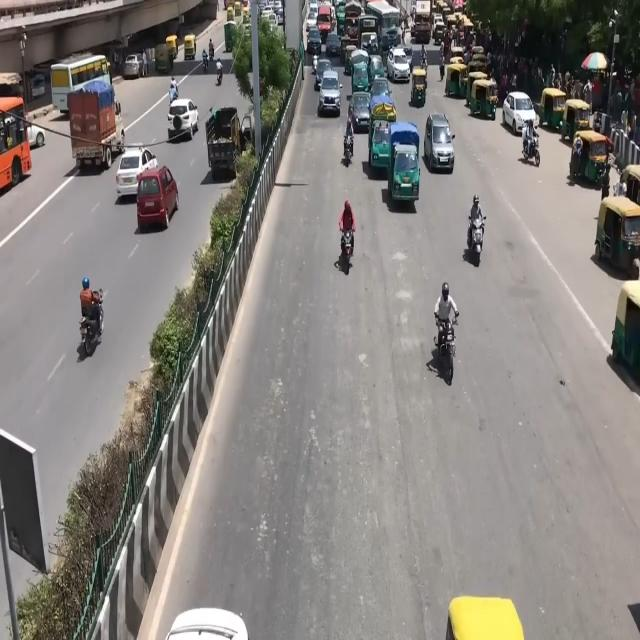auto: (595, 194, 640, 276), (610, 280, 640, 382), (570, 128, 610, 185), (424, 111, 454, 173), (540, 86, 568, 131), (470, 76, 498, 120), (410, 67, 427, 108), (154, 42, 175, 74), (574, 102, 592, 134), (341, 44, 358, 74), (224, 21, 236, 51), (184, 34, 196, 61), (166, 35, 178, 61)
bike-auto: (78, 287, 105, 356), (434, 314, 458, 385), (467, 212, 486, 256), (338, 221, 354, 270), (522, 130, 540, 166), (344, 110, 354, 156), (170, 76, 178, 102), (420, 47, 428, 71), (216, 59, 223, 83), (202, 47, 208, 69), (208, 39, 214, 59)
